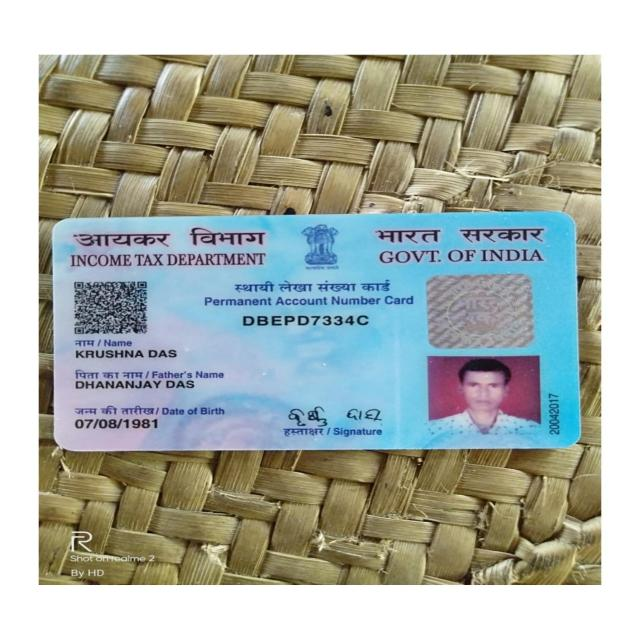pan_card: (52, 216, 568, 441)
